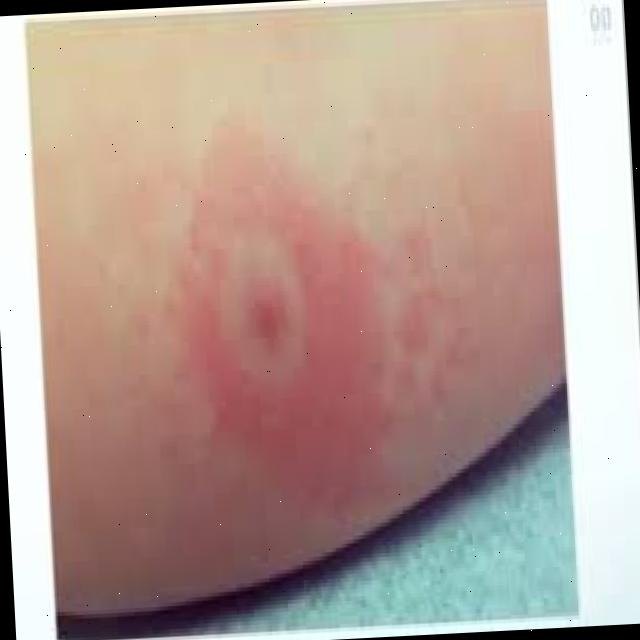kene: (190, 163, 332, 443)
